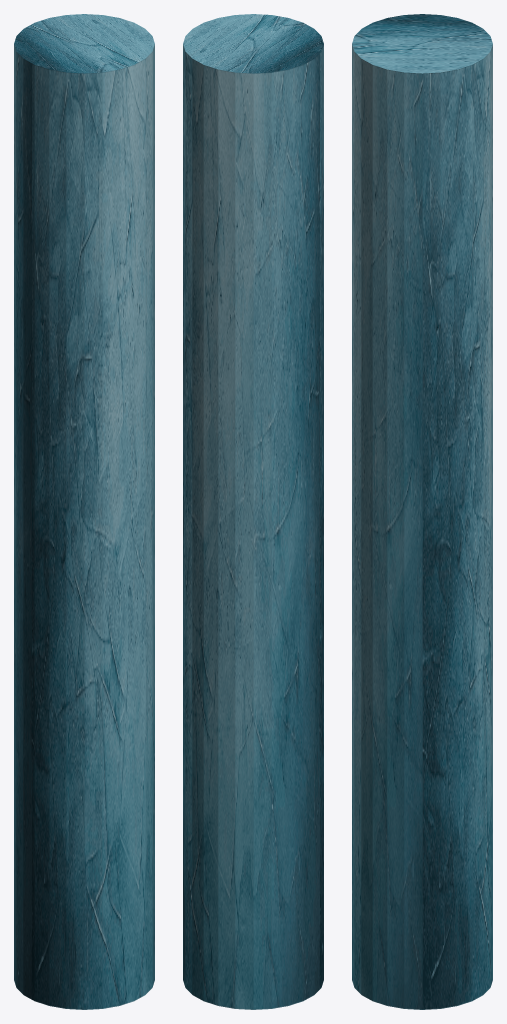
The model's file is p_pole1.dae.
3 views of the same model, side by side, from view 1: azimuth 30°, elevation 25°; view 2: azimuth 150°, elevation 25°; view 3: azimuth 270°, elevation 25° (orthographic).
Visible parts, largest first — view 1: instance_0; view 2: instance_0; view 3: instance_0.
Part boxes in pixels (box(x1,y1,x2,y2)): instance_0: box(14, 14, 154, 1009); instance_0: box(183, 14, 323, 1009); instance_0: box(352, 14, 492, 1009).
Size of the model in its own units: 11.81 by 11.81 by 86.61.
Materials: 1 (1 with a texture image).
